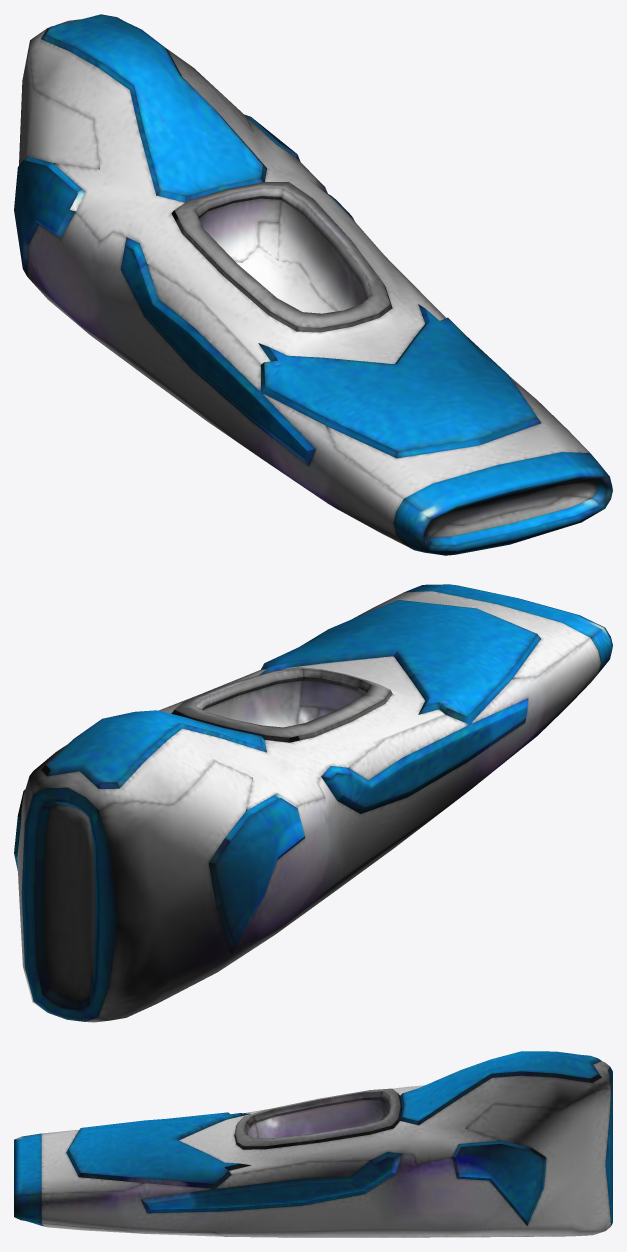
File: body1.obj
3 views of the same model, one above another, from view 1: azimuth 30°, elevation 25°; view 2: azimuth 150°, elevation 25°; view 3: azimuth 270°, elevation 25° (orthographic). The views are drawn at different scales.
Parts seen in each view (by area): view 1: Object011; view 2: Object011; view 3: Object011.
Part boxes in pixels (x1,y1,x2,y2): Object011: (14,14,612,555); Object011: (14,584,612,1022); Object011: (14,1051,612,1237).
Size of the model in its own units: 12.37 by 12.22 by 39.1.
1 material, 1 textured.
